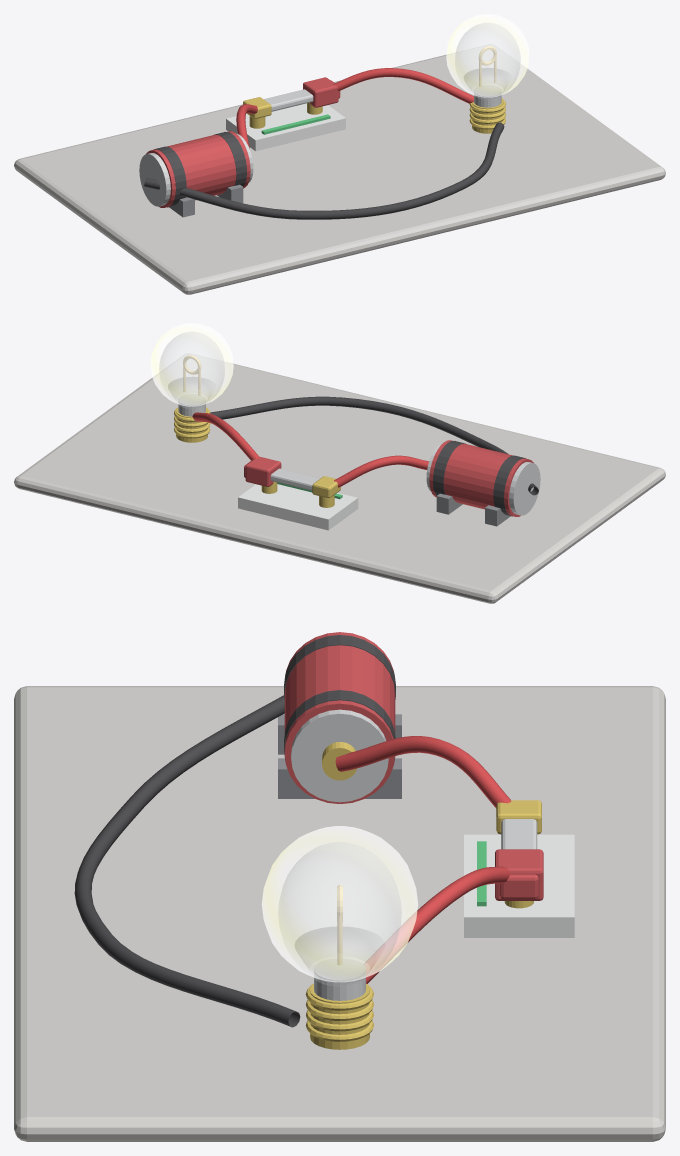
Rendered from LitarAsas.glb.
3 renders of one model, top to bottom at view 1: azimuth 30°, elevation 25°; view 2: azimuth 150°, elevation 25°; view 3: azimuth 270°, elevation 25°, orthographic. The views are drawn at different scales.
Parts seen in each view (by area): view 1: Papan, SelKering, MentolCahaya, WayarPenyambung, Mentol, SuisTapak, SuisTuas; view 2: Papan, SelKering, MentolCahaya, Mentol, WayarPenyambung, SuisTapak, SuisTuas; view 3: Papan, MentolCahaya, Mentol, SelKering, WayarPenyambung, SuisTapak, SuisTuas.
Boxes of the visible parts, x1,y1,x2,y2 form: Papan: (14,44,665,294); SelKering: (139,131,253,217); MentolCahaya: (446,14,529,97); WayarPenyambung: (144,68,504,219); Mentol: (455,23,520,133); SuisTapak: (226,102,345,151); SuisTuas: (243,77,340,118); Papan: (14,353,665,603); SelKering: (426,440,540,526); MentolCahaya: (150,323,233,406); Mentol: (159,332,224,442); WayarPenyambung: (192,396,538,495); SuisTapak: (238,481,358,530); SuisTuas: (244,456,340,498); Papan: (14,686,665,1141); MentolCahaya: (261,826,418,982); Mentol: (278,842,401,1049); SelKering: (278,632,401,803); WayarPenyambung: (74,695,511,1027); SuisTapak: (464,834,574,937); SuisTuas: (495,800,543,900).
Bounding box in the file's own units: 0.32 × 0.077 × 0.2.
